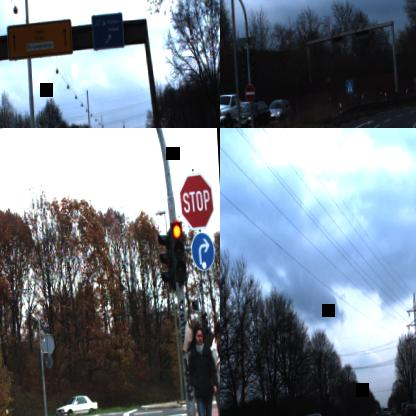NO ENTRY: (244, 82, 255, 102)
STOP: (177, 171, 215, 230)
go right or straight: (190, 232, 215, 272)
speed limit 70: (157, 113, 169, 128)
